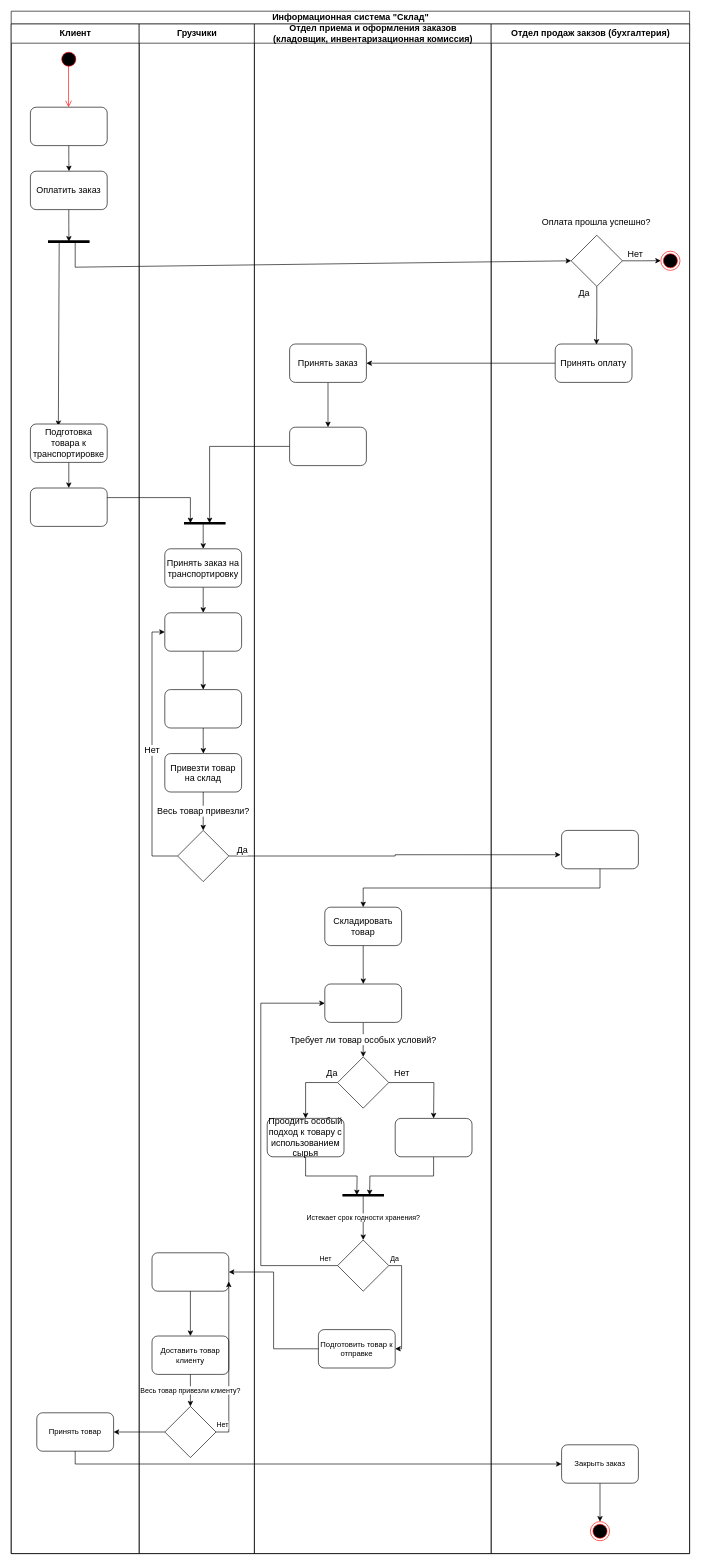
Some shapes in this 701 by 1565 pixel diagram are drawn without their labels. Here are the shapes that lost their labels. From the top down, the centre of each, then its label:
point (68, 126): Создать предложение о заказе
point (327, 446): Создать заказ на транспортировку
point (68, 506): Указать данные для сбора заказа
point (203, 631): Приезд на точку
point (203, 708): Загрузка товара в машину
point (599, 849): Зарегистрировать заказ
point (363, 1002): Проводить инвентаризацию
point (433, 1137): Проводить базовый подход к товару
point (190, 1271): Загрузить товар для транспортировки
